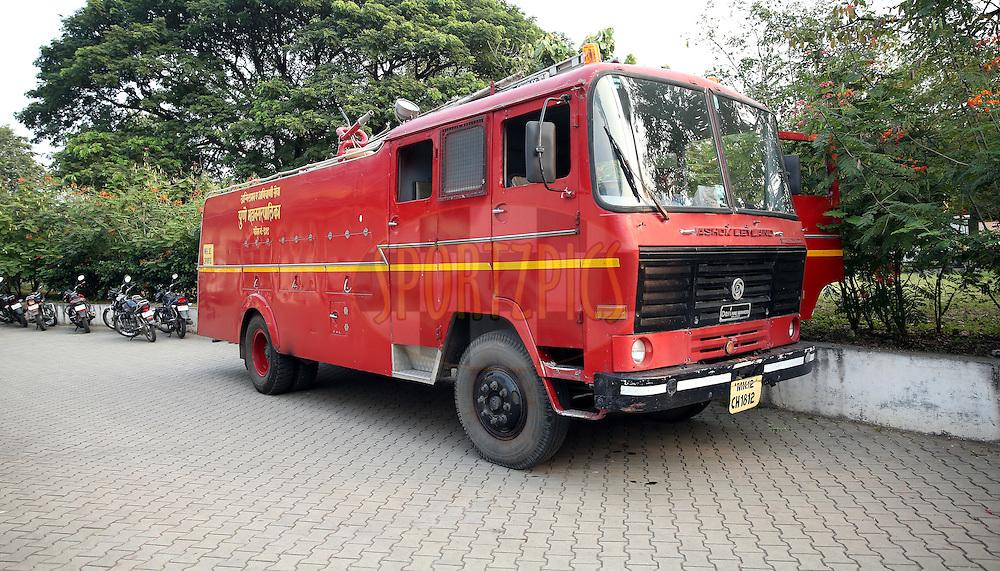Emergency-Vehicles: (103, 61, 809, 441)
